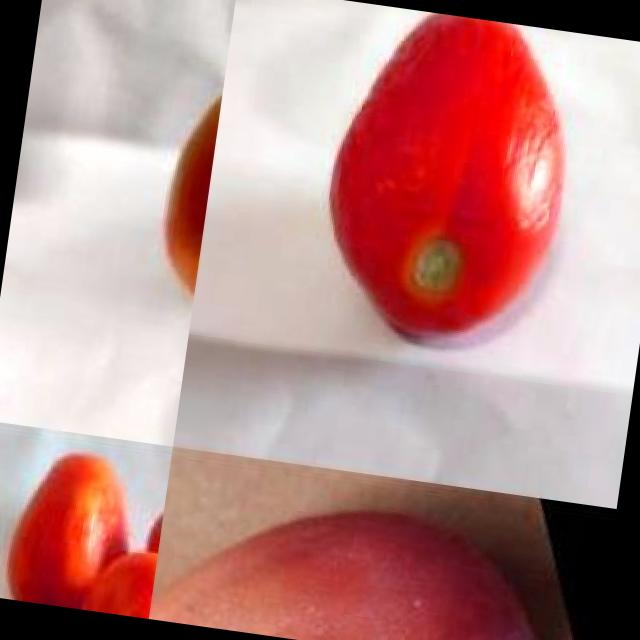Fresh_Tomato: (149, 468, 580, 640), (83, 40, 228, 338)
Rotten_Tomato: (290, 0, 600, 367), (0, 433, 146, 615), (56, 469, 168, 619)
